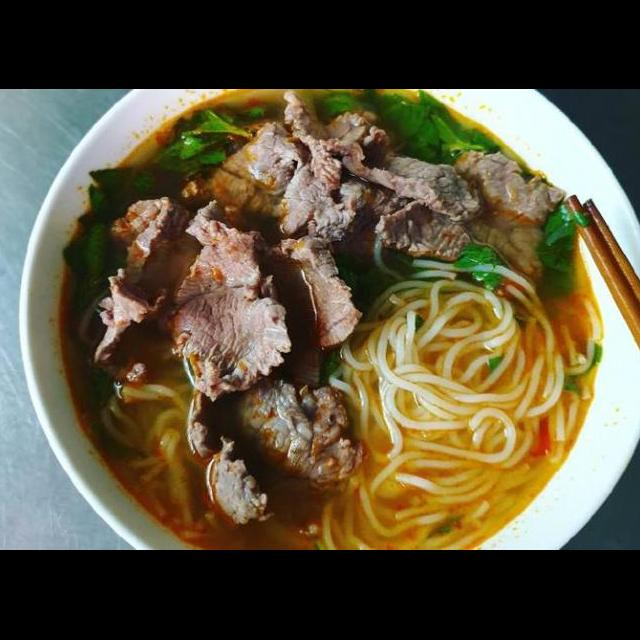bun: (327, 250, 605, 550), (94, 362, 223, 550)
bun bo: (82, 128, 588, 523)
thit bo: (89, 192, 365, 392), (165, 196, 294, 407), (193, 105, 382, 224), (446, 142, 571, 298), (316, 120, 489, 230), (227, 378, 366, 501), (181, 382, 277, 530), (270, 134, 380, 246), (371, 188, 481, 262)
